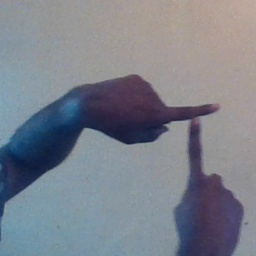T: (142, 80, 238, 200)
